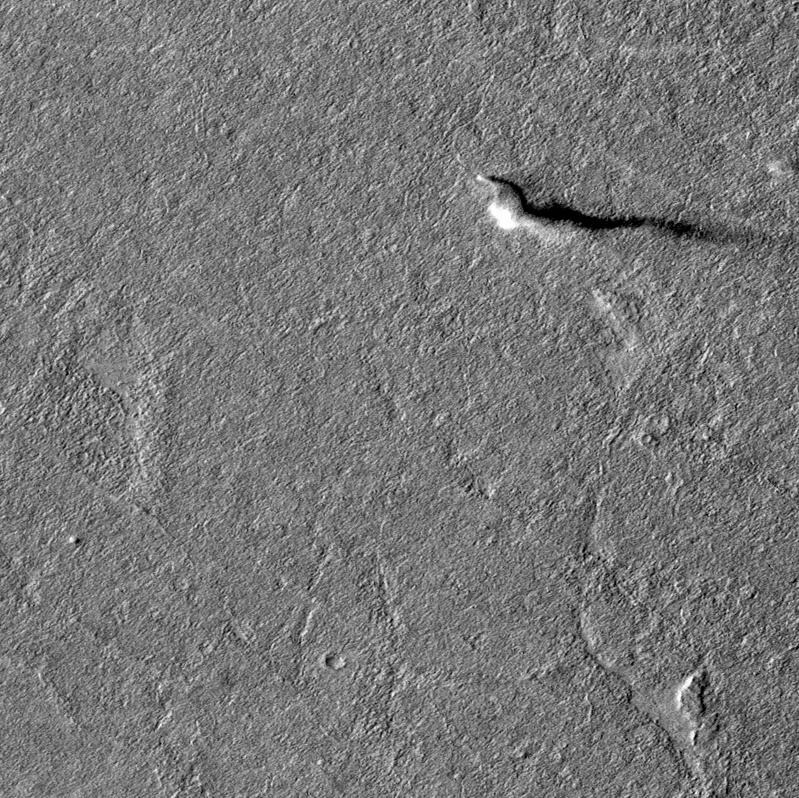dust_devil: (475, 174, 750, 250), (765, 158, 799, 178)
